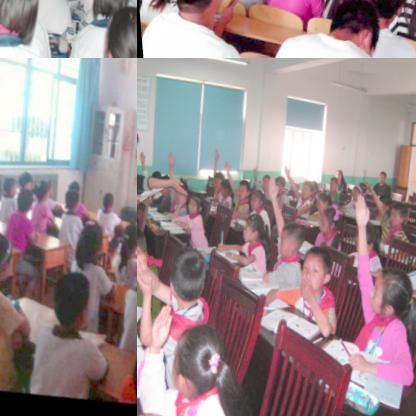head: (154, 317, 232, 410), (357, 264, 416, 335), (38, 268, 92, 337), (318, 0, 380, 58), (157, 246, 212, 311), (88, 0, 137, 58), (288, 246, 332, 300), (65, 218, 107, 269), (0, 0, 40, 44), (267, 221, 305, 267), (151, 0, 230, 20), (356, 0, 409, 26), (235, 214, 264, 252), (110, 217, 137, 257), (310, 209, 339, 242), (137, 223, 152, 279), (0, 229, 14, 287), (84, 0, 125, 18), (180, 193, 204, 222), (166, 181, 188, 212), (383, 206, 405, 234), (57, 187, 78, 215), (242, 190, 264, 216), (92, 190, 113, 217), (10, 187, 31, 214), (27, 177, 48, 204), (293, 182, 313, 208), (308, 194, 328, 218), (12, 167, 31, 191), (206, 170, 224, 194), (61, 179, 80, 201), (144, 168, 161, 192), (231, 179, 247, 204), (153, 173, 170, 196), (370, 197, 387, 219), (214, 180, 230, 202), (0, 173, 14, 198), (269, 177, 284, 199), (345, 186, 358, 206), (322, 180, 336, 198), (256, 176, 269, 193), (373, 173, 386, 189), (412, 243, 416, 293), (330, 171, 341, 187), (304, 182, 315, 197)
